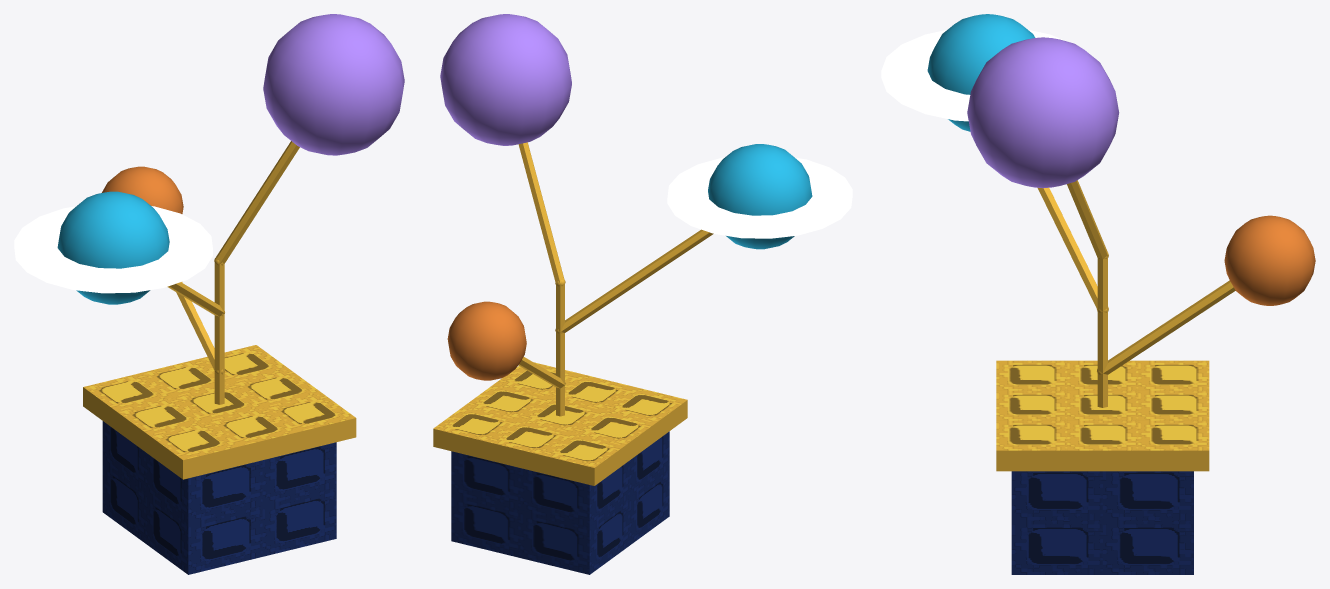
Rendered from OrbitingOrbs.glb.
3 views of the same model, side by side, from view 1: azimuth 30°, elevation 25°; view 2: azimuth 150°, elevation 25°; view 3: azimuth 270°, elevation 25° (orthographic). The views are drawn at different scales.
Parts seen in each view (by area): view 1: OrbitingOrbs, OrbitingOrbs_Glow; view 2: OrbitingOrbs, OrbitingOrbs_Glow; view 3: OrbitingOrbs, OrbitingOrbs_Glow.
Boxes of the visible parts, <box> form: OrbitingOrbs: <box>57,14,404,574</box>; OrbitingOrbs_Glow: <box>14,206,212,293</box>; OrbitingOrbs: <box>433,14,812,574</box>; OrbitingOrbs_Glow: <box>667,157,852,238</box>; OrbitingOrbs: <box>927,14,1315,574</box>; OrbitingOrbs_Glow: <box>881,30,1064,121</box>.
Bounding box in the file's own units: 6.38 × 7.8 × 5.71.
2 materials, 1 textured.
